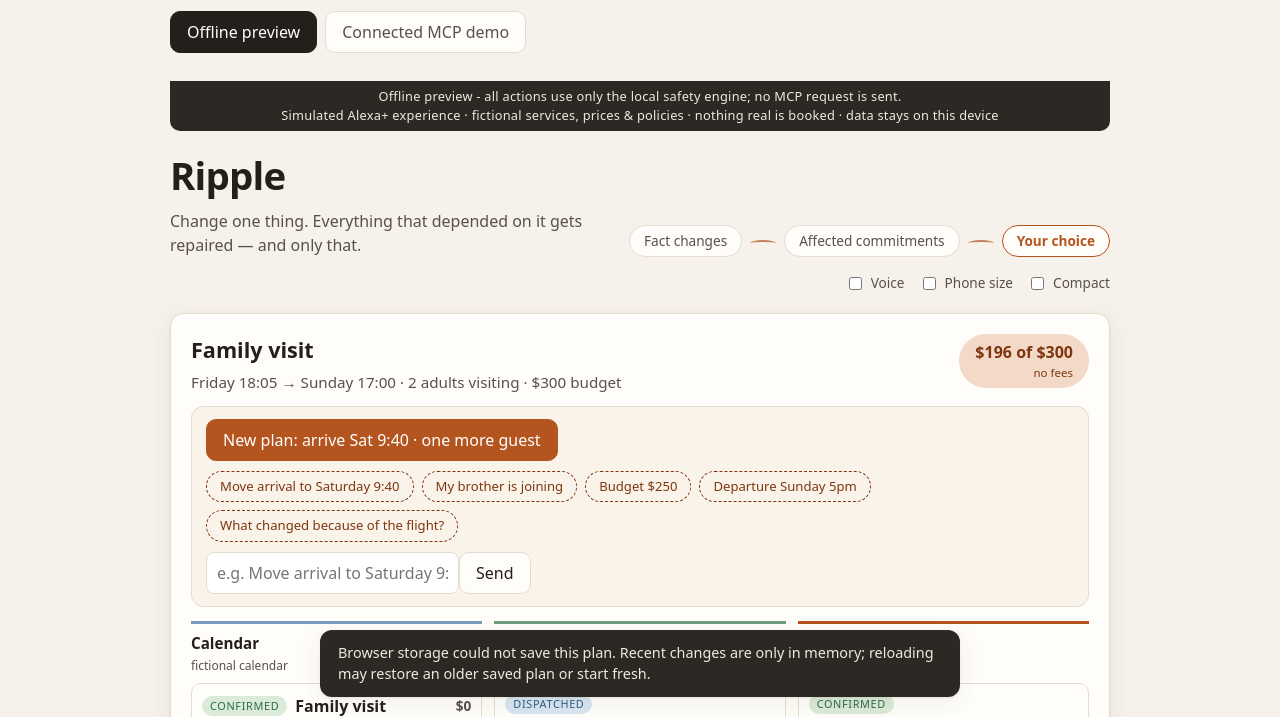
Scenario: offline save feedback › removes the warning immediately after a successful write and persists the current in-memory plan
Click the checkbox labelled "Compact".
click(1038, 283)  # box top-left (1031, 277), bottom-right (1044, 290)
(page scrolled)
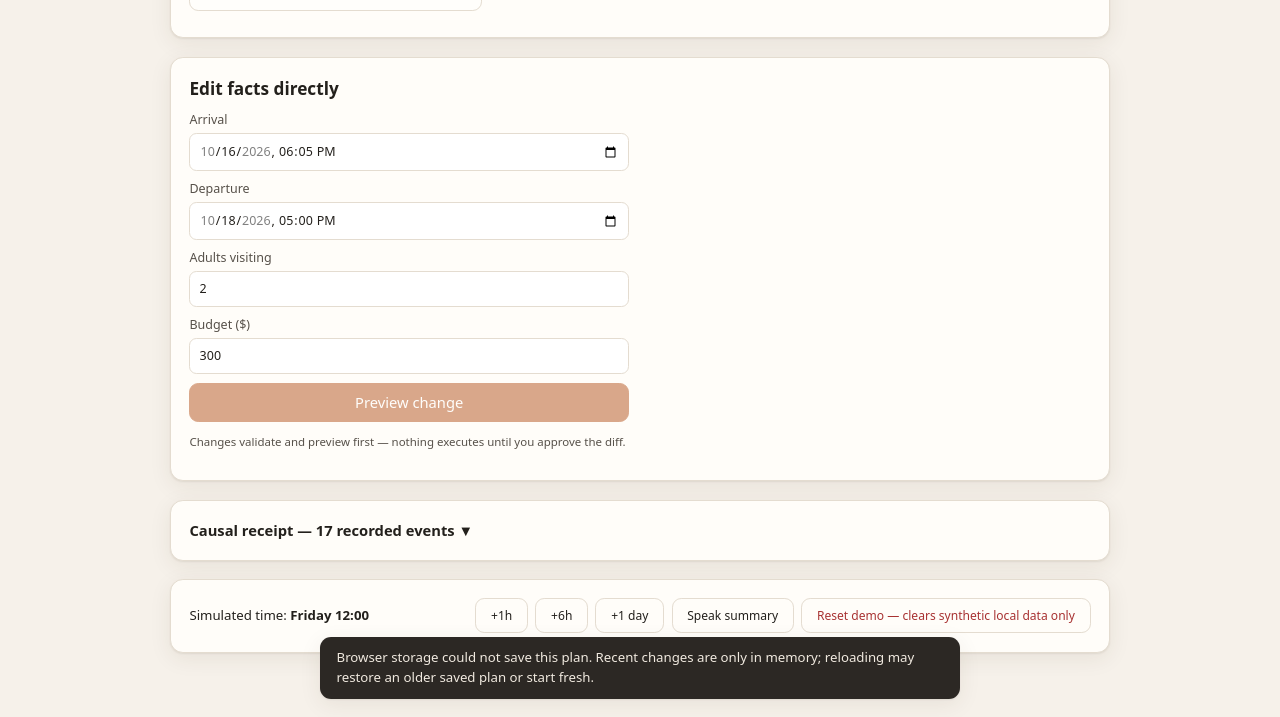
Expected: the message is shown, top-left (320, 637), bottom-right (960, 699)
Click the button "+1h".
click(502, 616)  # box top-left (475, 598), bottom-right (528, 633)
(page scrolled)
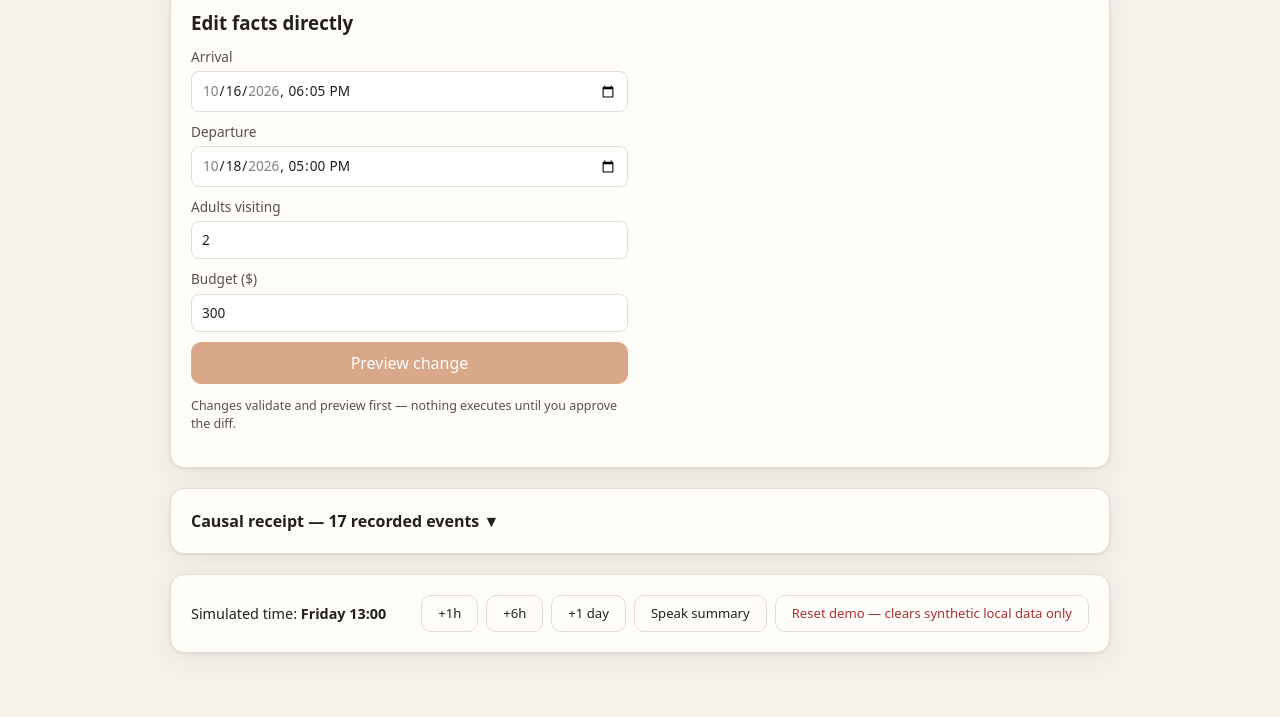
Expected: the element with class "sim-time" shows "Friday 13:00", top-left (301, 604), bottom-right (386, 623)
